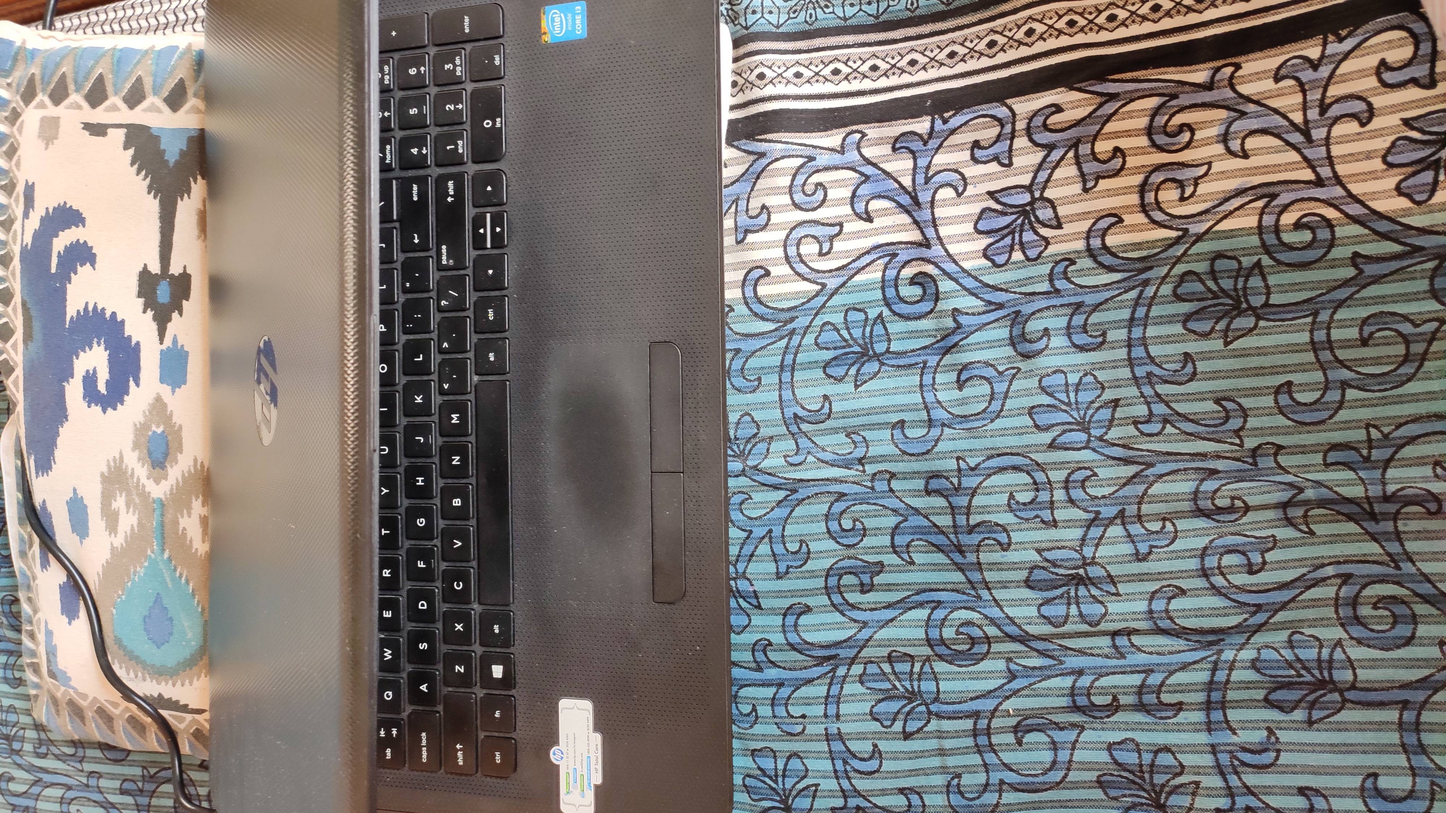Electronics: (179, 0, 758, 802)
